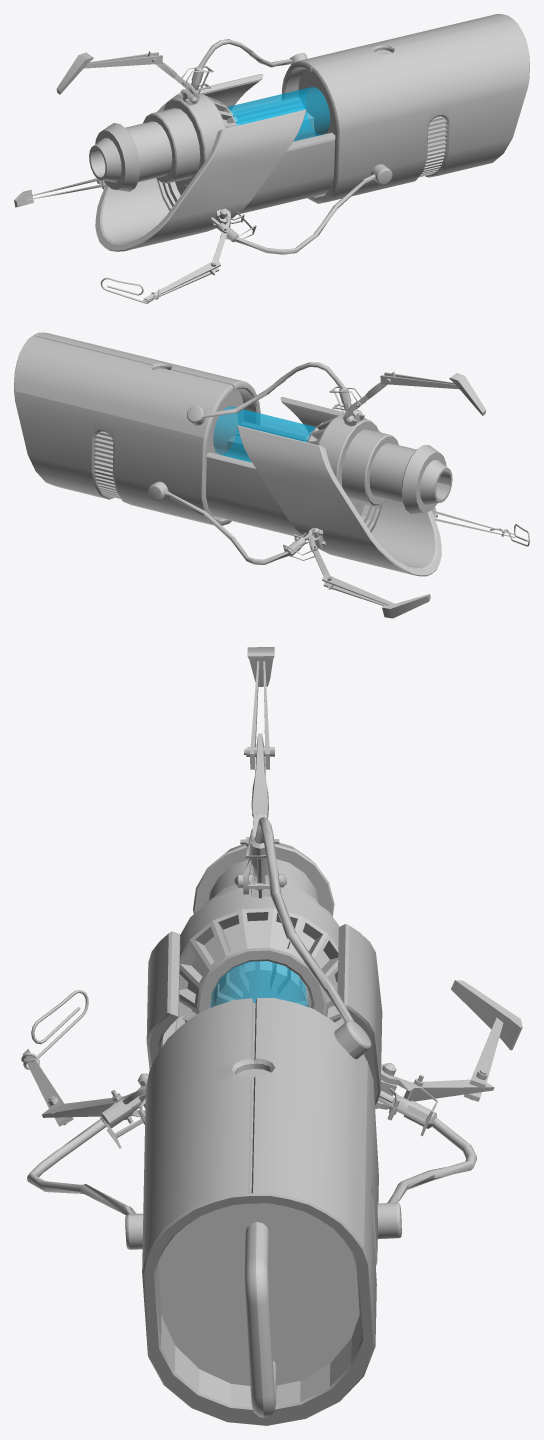
Rendered from Portal_gun.fbx.
The picture shows the model from 3 angles, top to bottom: view 1: azimuth 30°, elevation 25°; view 2: azimuth 150°, elevation 25°; view 3: azimuth 270°, elevation 25°; orthographic projection. The views are drawn at different scales.
Visible parts, largest first — view 1: DrawCall_0252, DrawCall_0348, DrawCall_0347, DrawCall_0251; view 2: DrawCall_0252, DrawCall_0348, DrawCall_0347; view 3: DrawCall_0252, DrawCall_0348, DrawCall_0347, DrawCall_0251.
Boxes of the visible parts, x1,y1,x2,y2 form: DrawCall_0252: (14,14,529,302); DrawCall_0348: (227,87,329,141); DrawCall_0347: (228,87,329,140); DrawCall_0251: (100,277,160,303); DrawCall_0252: (14,332,515,618); DrawCall_0348: (213,406,315,462); DrawCall_0347: (214,407,315,462); DrawCall_0252: (22,647,522,1425); DrawCall_0348: (210,961,308,1007); DrawCall_0347: (210,961,308,1007); DrawCall_0251: (21,990,88,1069).
Size of the model in its own units: 10000 by 4351 by 4788.
